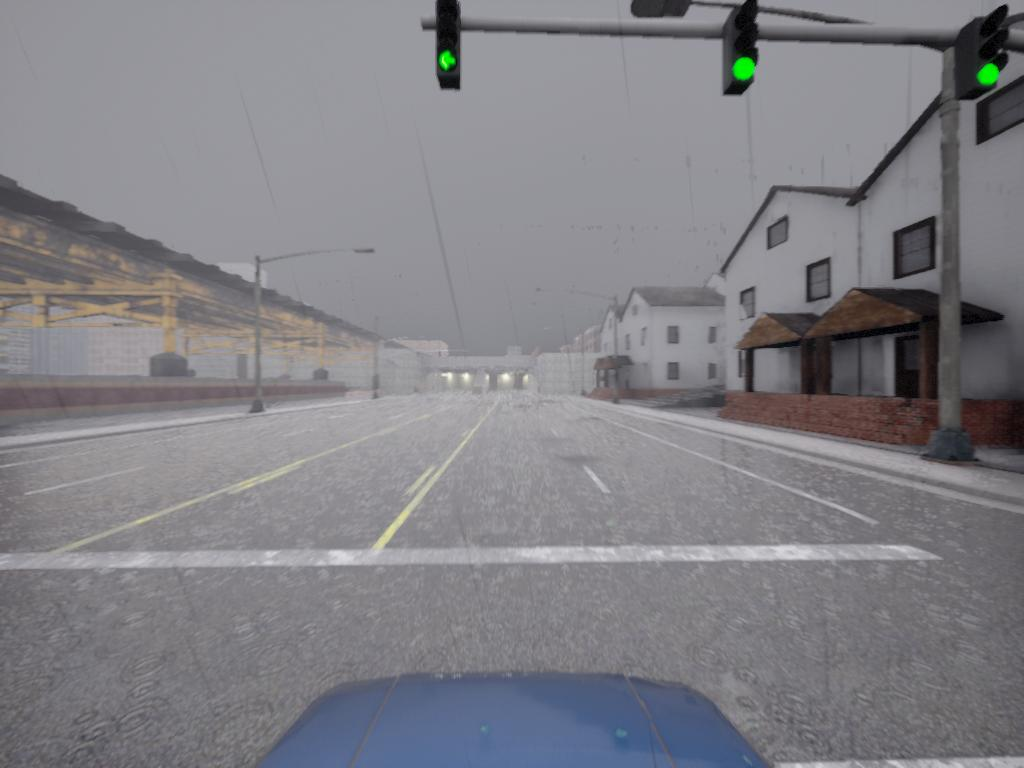traffic_light: (951, 9, 1016, 97), (722, 1, 762, 93), (436, 1, 464, 84)
